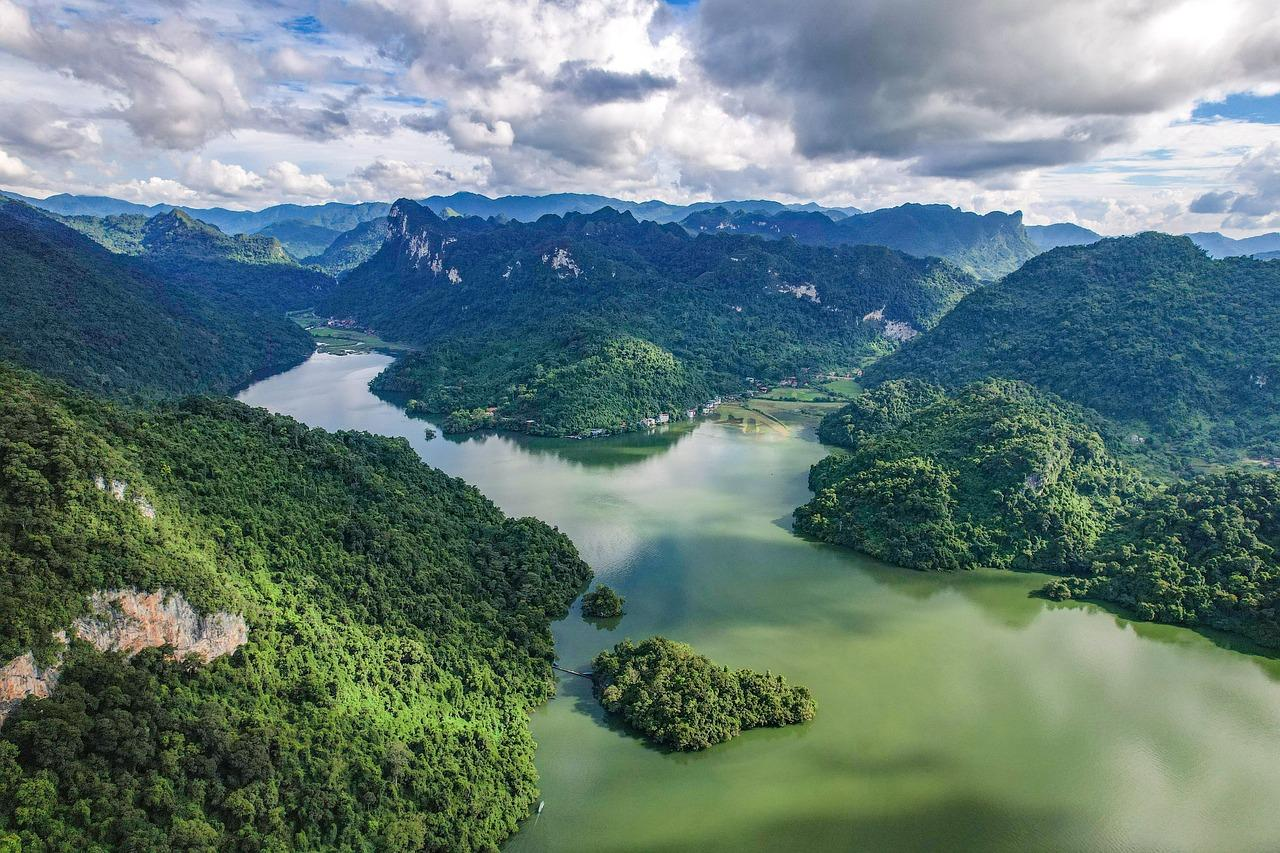Non_Gorille: (204, 10, 1208, 853)
